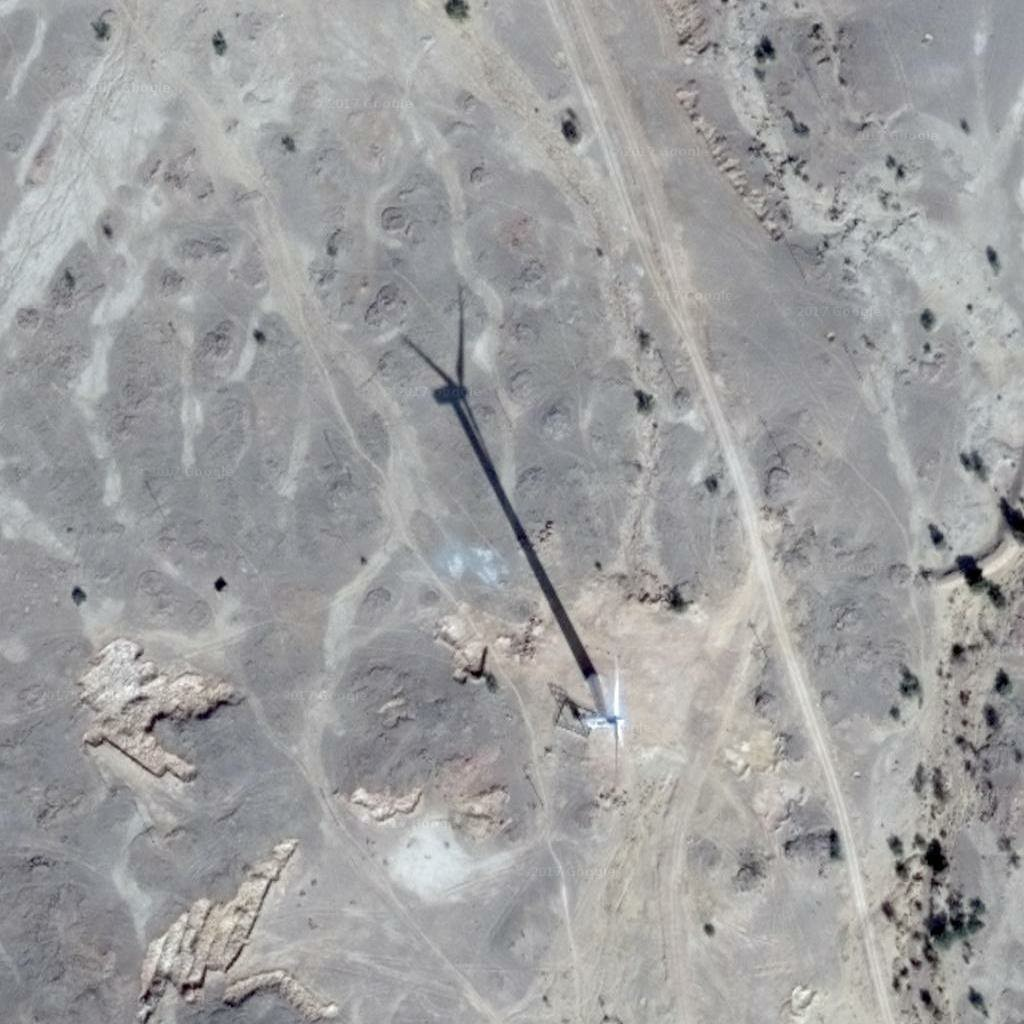Windmill: (389, 342, 608, 691)
